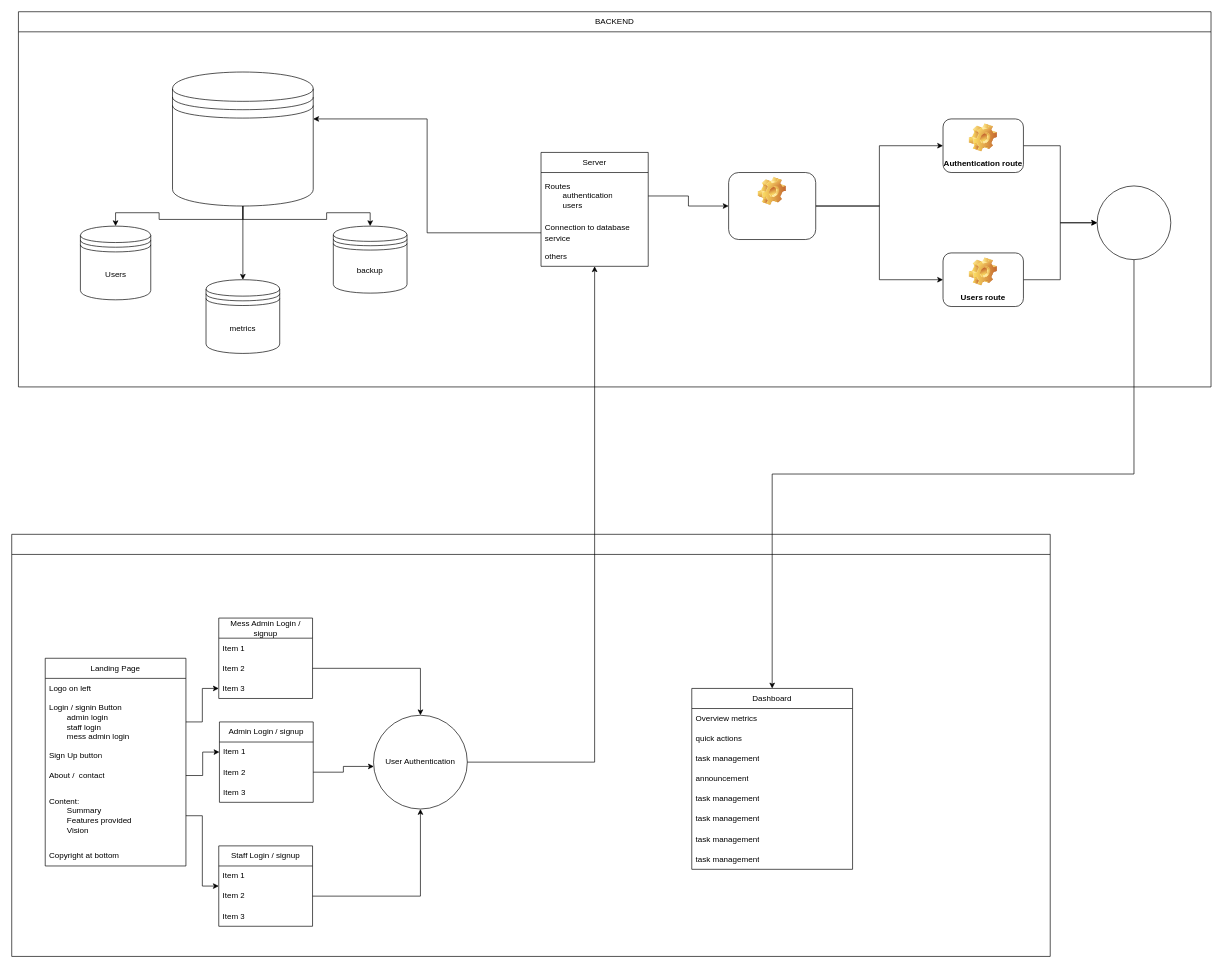
Some shapes in this 1223 by 968 pixel diagram are drawn without their labels. The shapes that lost their labels are listed below. From the top down, each one's centre as x and y in pixels, then its label:
At point 242,138: "staff db".
At point 772,206: "Middleware for tokenization".
At point 1133,222: "APIs".
At point 530,745: "FRONTEND".
